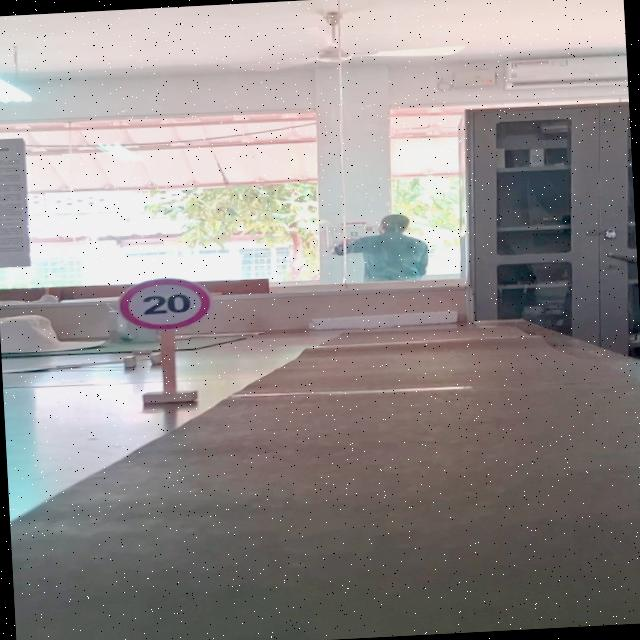Speed20: (114, 274, 214, 334)
